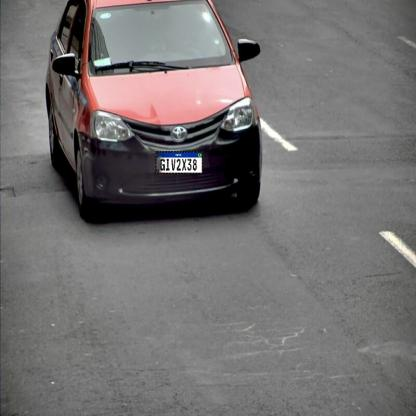PlacaM: (155, 151, 203, 174)
